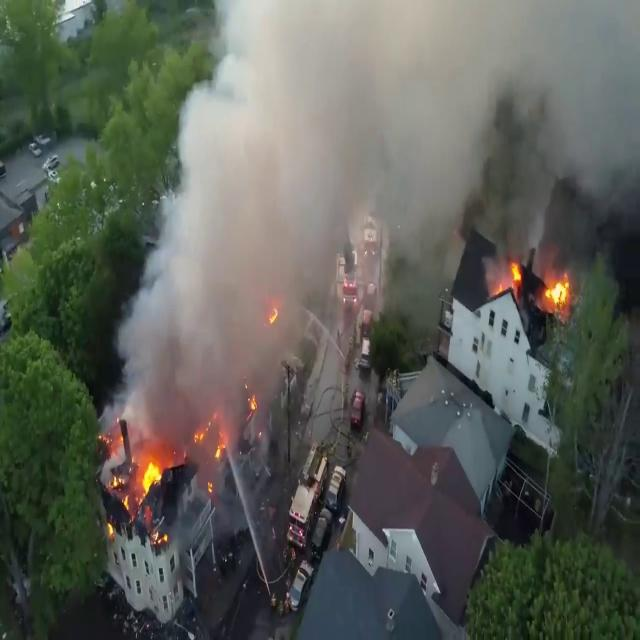Fire: (134, 447, 166, 510), (540, 269, 574, 319), (505, 251, 525, 294)
Smoke: (106, 0, 640, 446)
